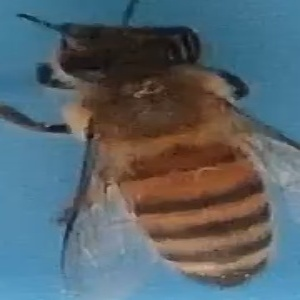bee: (3, 12, 297, 299)
